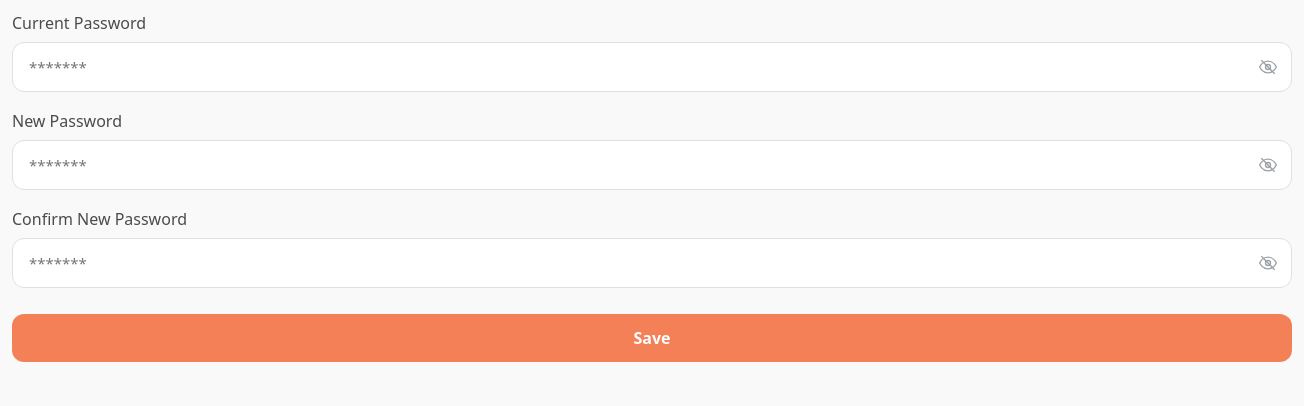
Scenario: PasswordChangeForm › shows a wrong current password (USER_004) on that field
Type "Wrong-pass1!" into the password field labelled "Current Password" at x=652, y=67, box [12, 42, 1292, 92]
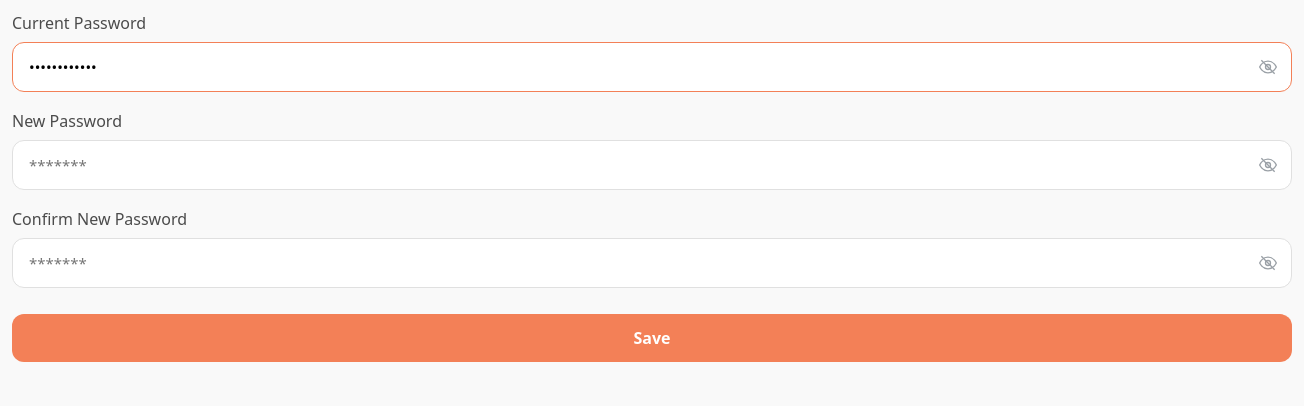
Type "Brand-new1!" into the password field labelled "New Password" at x=652, y=165, box [12, 140, 1292, 190]
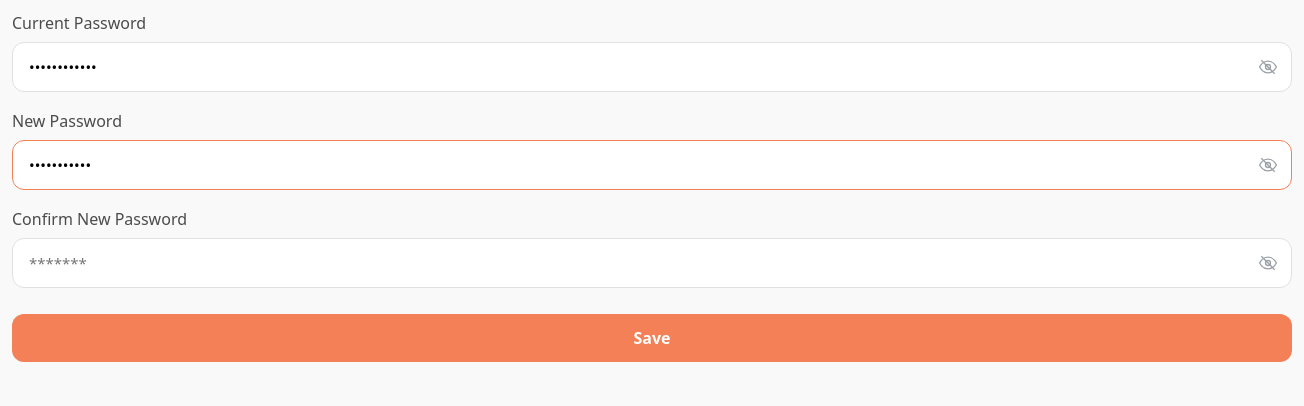
Type "Brand-new1!" into the password field labelled "Confirm New Password" at x=652, y=263, box [12, 238, 1292, 288]
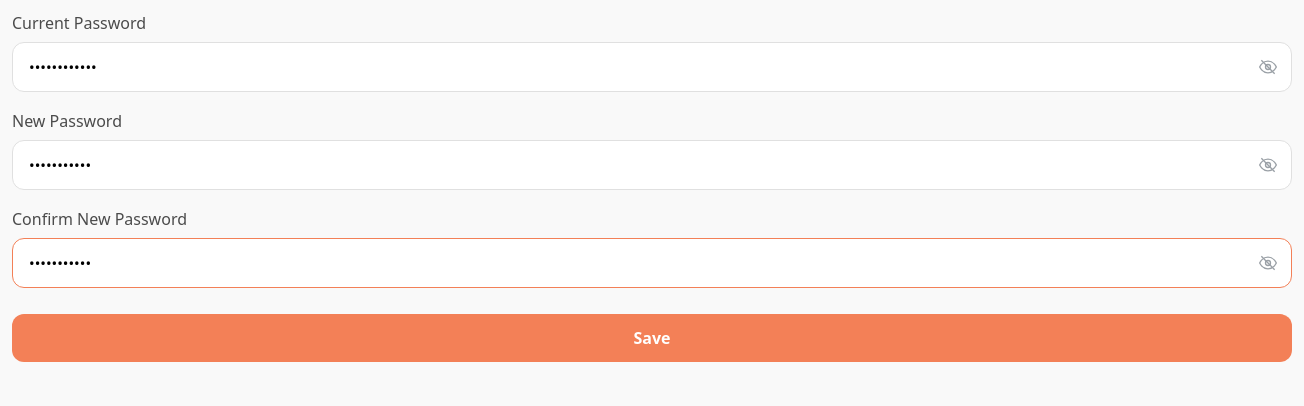
Click the button "Save" at x=652, y=338, box [12, 314, 1292, 362]
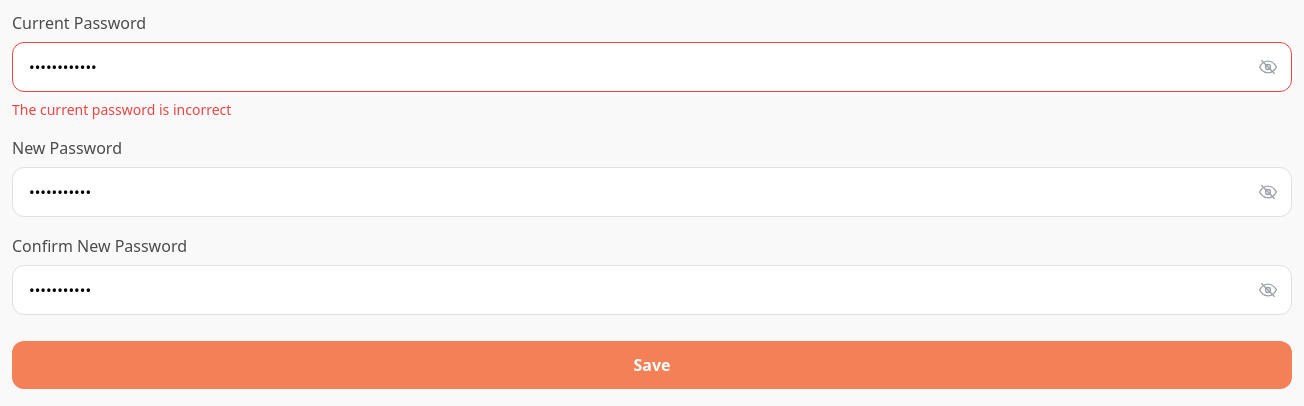
Check: the text "The current password is incorrect" is shown, box [12, 100, 231, 119]
